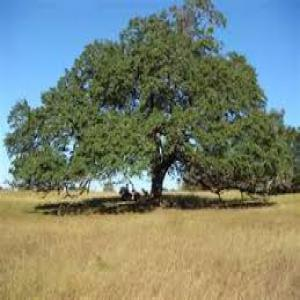Tree: (2, 0, 299, 204)
